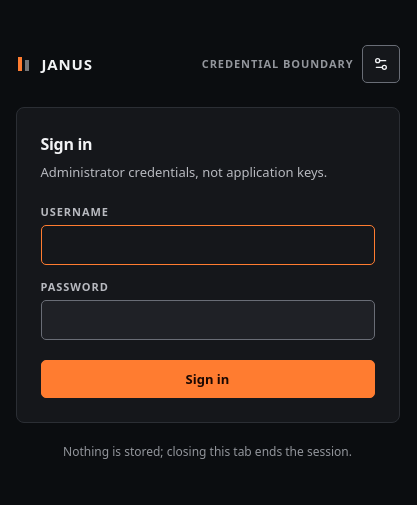
it: SignIn › tells the reader to wait when the attempt was throttled
The image size is (417, 505).
Type "root" into the field labelled "Username". click: (208, 245)
box: [40,225,374,265]
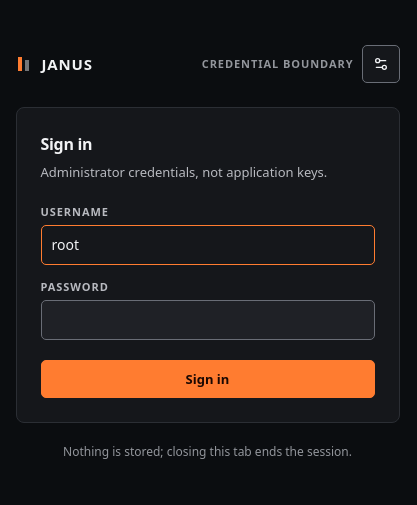
Type "hunter2" into the password field labelled "Password". click: (208, 320)
box: [40,300,374,340]
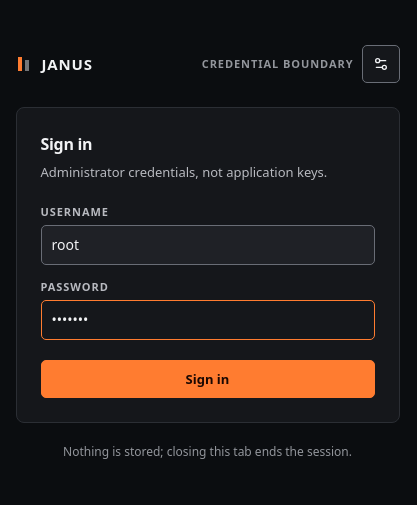
Click the button "Sign in". click: (208, 379)
box: [40,360,374,398]
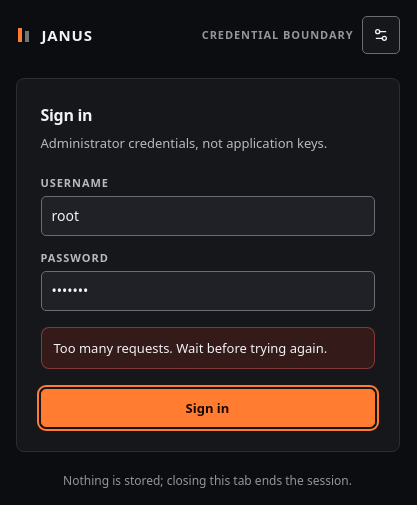
Result: the message reads "Too many requests. Wait before trying again." at [54,339,327,357]
